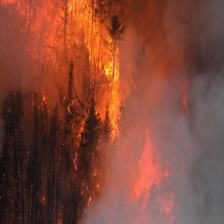fire: (21, 1, 142, 108), (100, 114, 178, 221)
